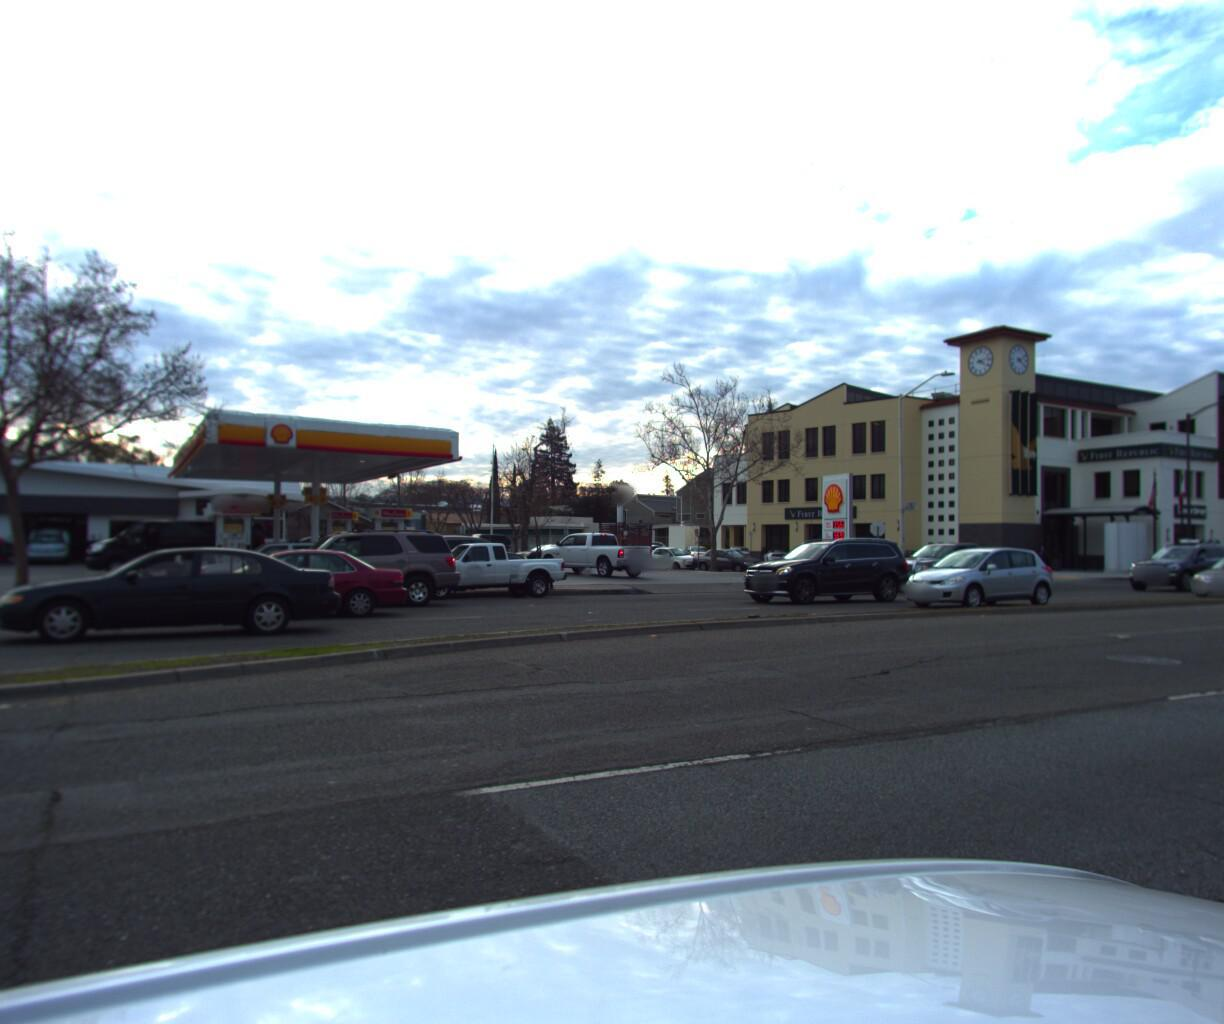car: (154, 549, 412, 626), (243, 524, 466, 610), (180, 539, 372, 611), (736, 536, 913, 606), (393, 539, 570, 604), (82, 518, 271, 577), (893, 546, 1055, 609), (875, 541, 1024, 593), (397, 532, 541, 583), (1116, 533, 1224, 590), (537, 530, 656, 577), (686, 544, 769, 574), (442, 531, 516, 562), (627, 543, 703, 571), (1179, 550, 1224, 596), (25, 525, 74, 566), (757, 543, 795, 566), (720, 542, 753, 563)
